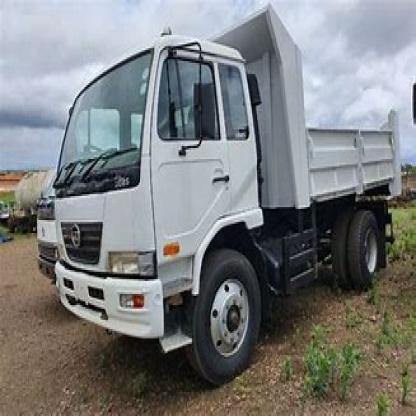dump_truck: (40, 4, 404, 386)
